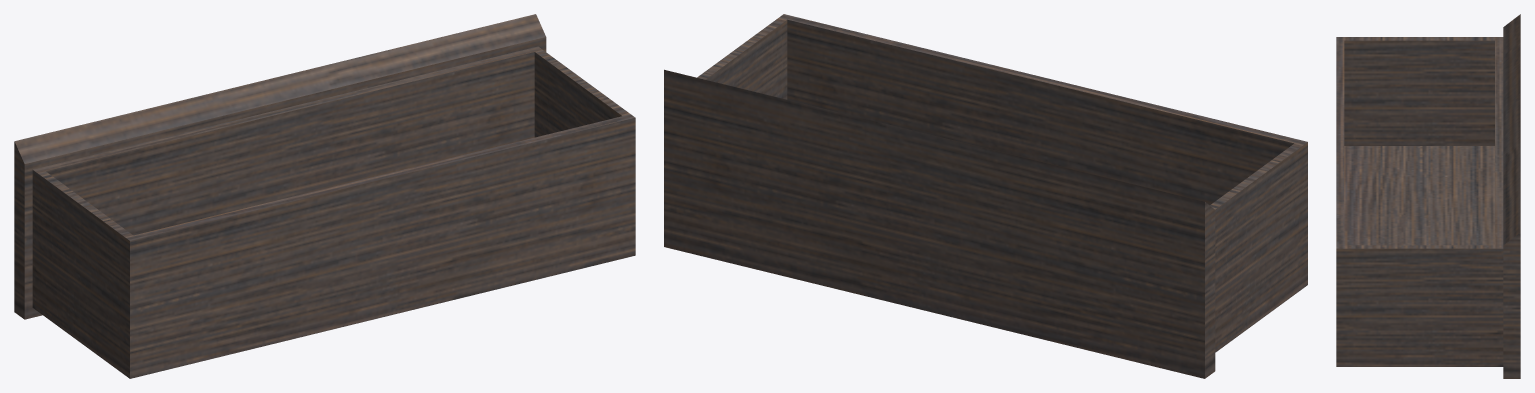
Rendered from Washbasin_drawer_01.glb.
The picture shows the model from 3 angles, left to right: view 1: azimuth 30°, elevation 25°; view 2: azimuth 150°, elevation 25°; view 3: azimuth 270°, elevation 25°; orthographic projection. The views are drawn at different scales.
Visible parts, largest first — view 1: Washbasin_drawer_01; view 2: Washbasin_drawer_01; view 3: Washbasin_drawer_01.
Boxes of the visible parts, x1=… form: Washbasin_drawer_01: x1=14, y1=14, x2=635, y2=378; Washbasin_drawer_01: x1=664, y1=14, x2=1307, y2=378; Washbasin_drawer_01: x1=1336, y1=14, x2=1520, y2=378.
Size of the model in its own units: 1.14 by 0.3562 by 0.4059.
Materials: 1 (1 with a texture image).
